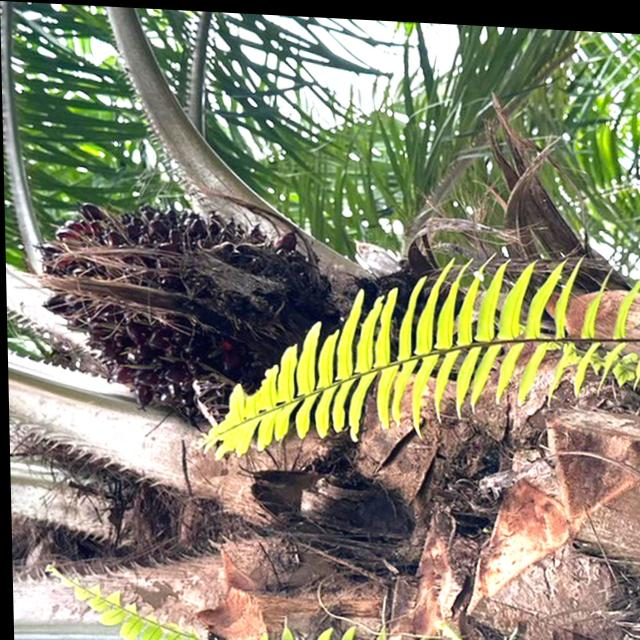ripe: (30, 191, 326, 422)
